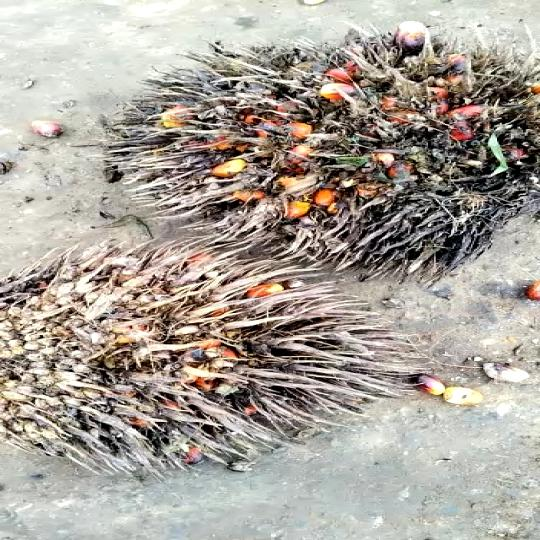terlalu masak: (104, 37, 540, 257), (0, 248, 403, 467)
